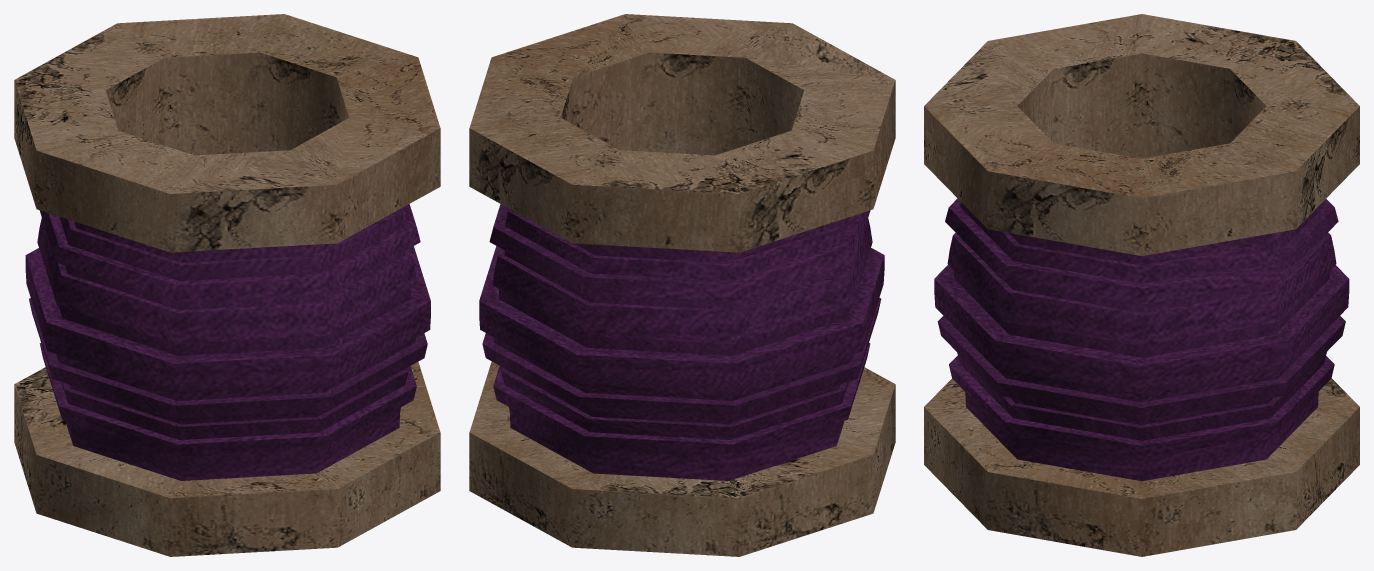
The model's file is CarreteEstambreMorado.fbx.
3 views of the same model, side by side, from view 1: azimuth 30°, elevation 25°; view 2: azimuth 150°, elevation 25°; view 3: azimuth 270°, elevation 25° (orthographic).
Visible parts, largest first — view 1: CarreteHilo.001; view 2: CarreteHilo.001; view 3: CarreteHilo.001.
Boxes of the visible parts, <box> form: CarreteHilo.001: <box>14,14,440,556</box>; CarreteHilo.001: <box>469,14,895,556</box>; CarreteHilo.001: <box>924,14,1359,556</box>.
Size of the model in its own units: 81.09 by 73.64 by 81.09.
Materials: 1 (1 with a texture image).
